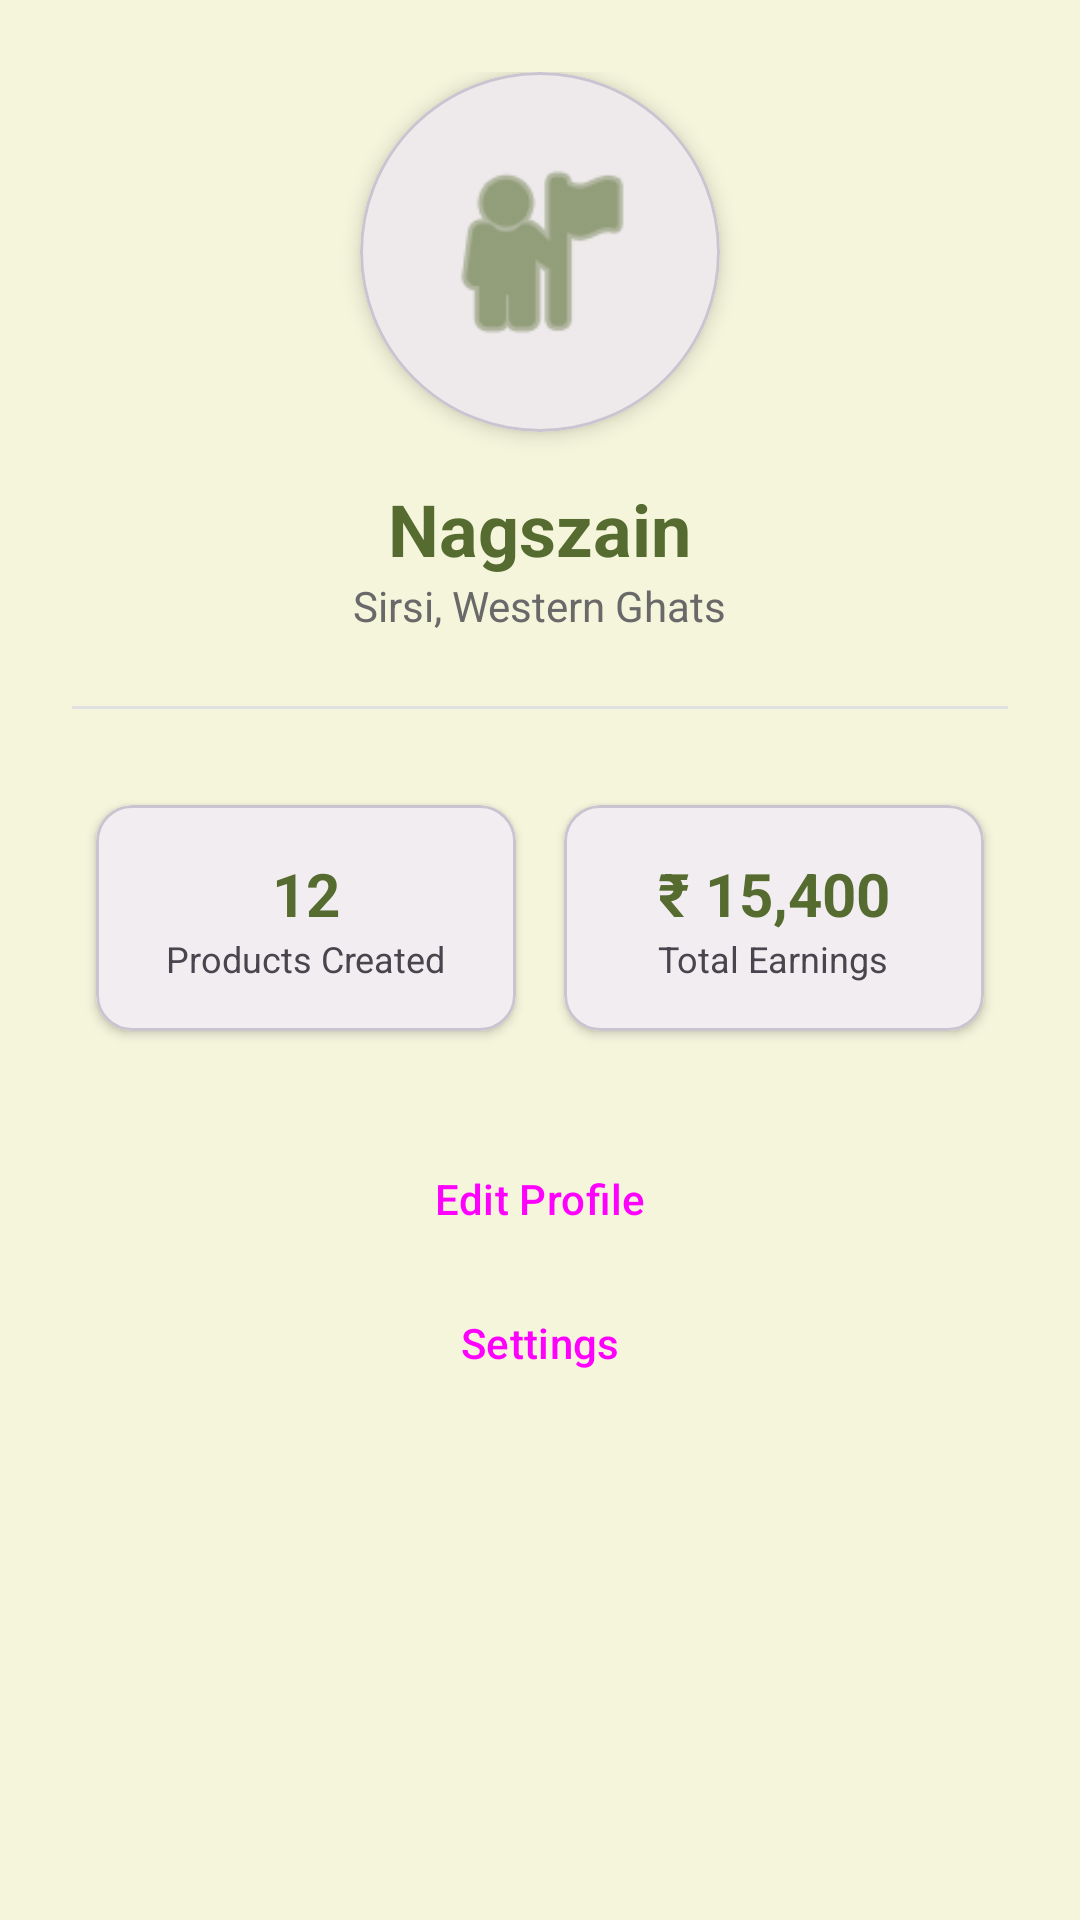

Icons on this 1080x1920 Android screen, each with its box as (x1=x1, y1=y1, x2=x2, y2=y2):
myplaces: (x1=360, y1=72, x2=720, y2=432)
